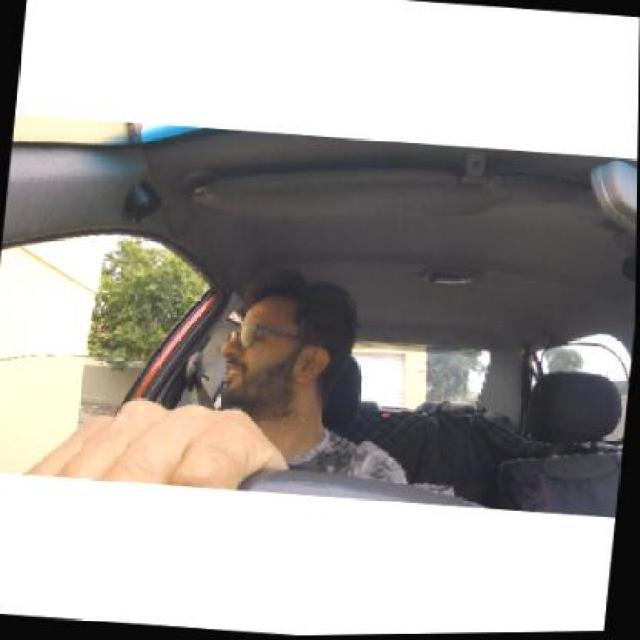LeftRight: (211, 271, 349, 414)
